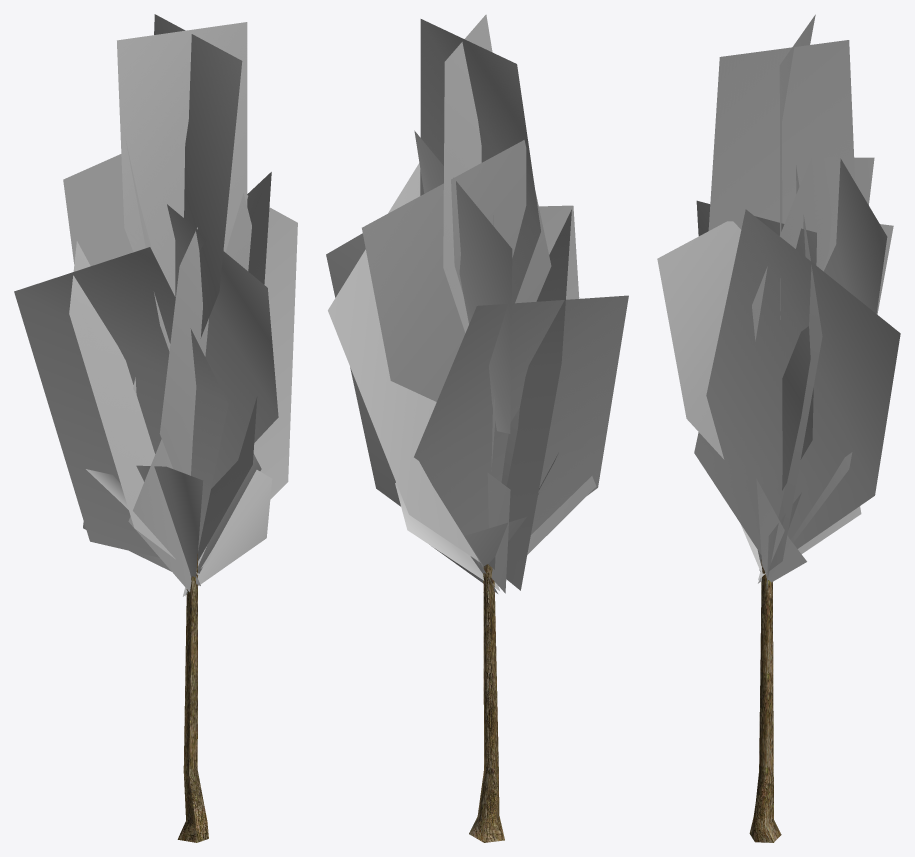
The model's file is tree 2.FBX.
The picture shows the model from 3 angles, left to right: view 1: azimuth 30°, elevation 25°; view 2: azimuth 150°, elevation 25°; view 3: azimuth 270°, elevation 25°; orthographic projection.
Visible parts, largest first — view 1: MepTree2_170; view 2: MepTree2_170; view 3: MepTree2_170.
Boxes of the visible parts, bbox=[...] form: MepTree2_170: bbox=[14, 14, 297, 842]; MepTree2_170: bbox=[326, 14, 628, 842]; MepTree2_170: bbox=[657, 14, 900, 842].
Bounding box in the file's own units: 64.98 × 188 × 51.6.
